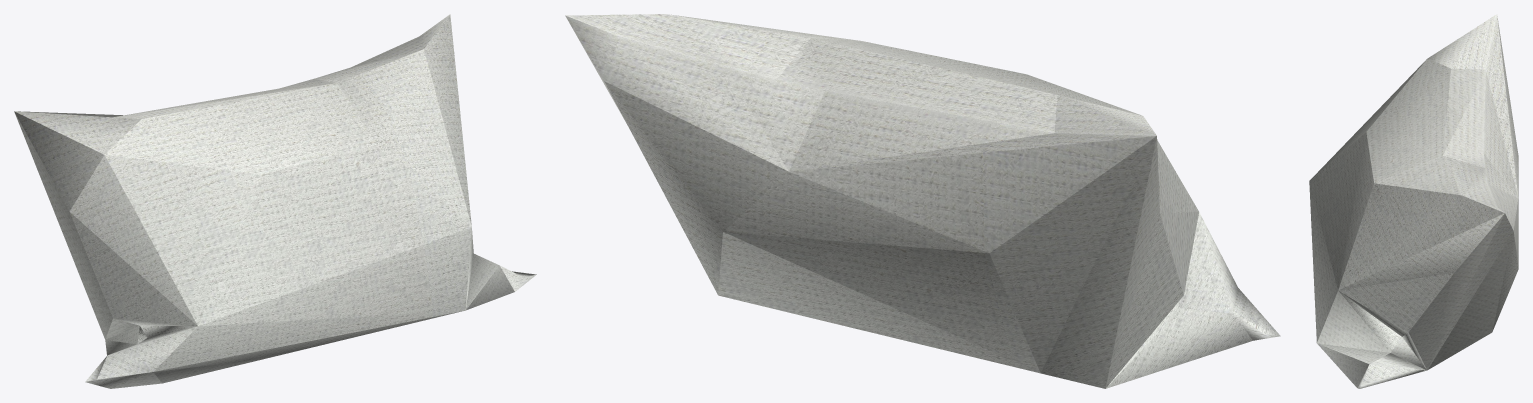
Rendered from Pillow.fbx.
The picture shows the model from 3 angles, left to right: view 1: azimuth 30°, elevation 25°; view 2: azimuth 150°, elevation 25°; view 3: azimuth 270°, elevation 25°; orthographic projection. The views are drawn at different scales.
Visible parts, largest first — view 1: pillow; view 2: pillow; view 3: pillow.
Boxes of the visible parts, x1,y1,x2,y2 form: pillow: [14, 14, 536, 388]; pillow: [565, 14, 1280, 388]; pillow: [1309, 14, 1518, 388].
Size of the model in its own units: 69.12 by 32.99 by 31.62.
Materials: 1 (1 with a texture image).
